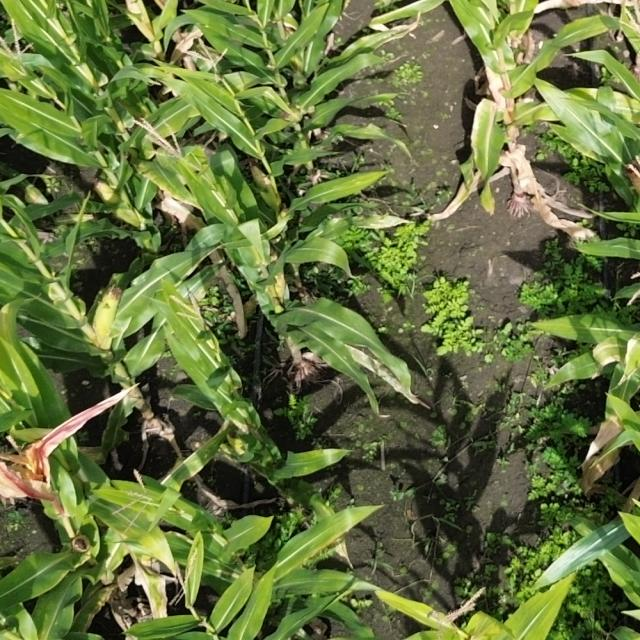gray-leaf-spot: (178, 346, 258, 444)
northern-leaf-blight: (466, 93, 525, 200), (133, 158, 222, 208), (572, 327, 640, 384)
